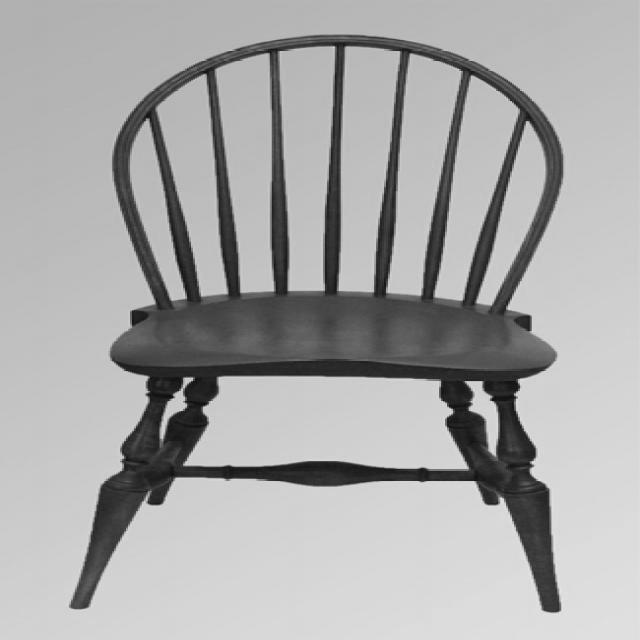chair: (67, 34, 593, 610)
